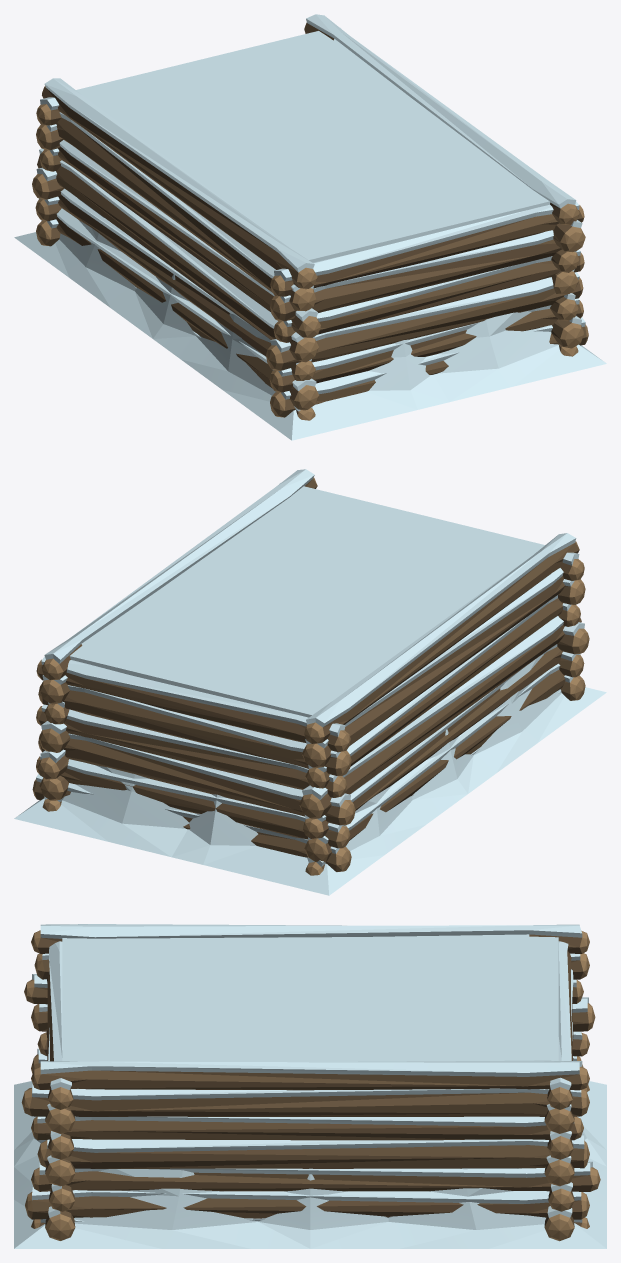
File: Base_Larga01.glb
The picture shows the model from 3 angles, top to bottom: view 1: azimuth 30°, elevation 25°; view 2: azimuth 150°, elevation 25°; view 3: azimuth 270°, elevation 25°; orthographic projection. The views are drawn at different scales.
Visible parts, largest first — view 1: SM_Bld_Base_Long_01_Snow; view 2: SM_Bld_Base_Long_01_Snow; view 3: SM_Bld_Base_Long_01_Snow.
Boxes of the visible parts, x1,y1,x2,y2 form: SM_Bld_Base_Long_01_Snow: [14, 14, 606, 440]; SM_Bld_Base_Long_01_Snow: [14, 469, 606, 895]; SM_Bld_Base_Long_01_Snow: [14, 924, 606, 1248].
Size of the model in its own units: 4.95 by 2.45 by 7.51.
Materials: 1 (1 with a texture image).
